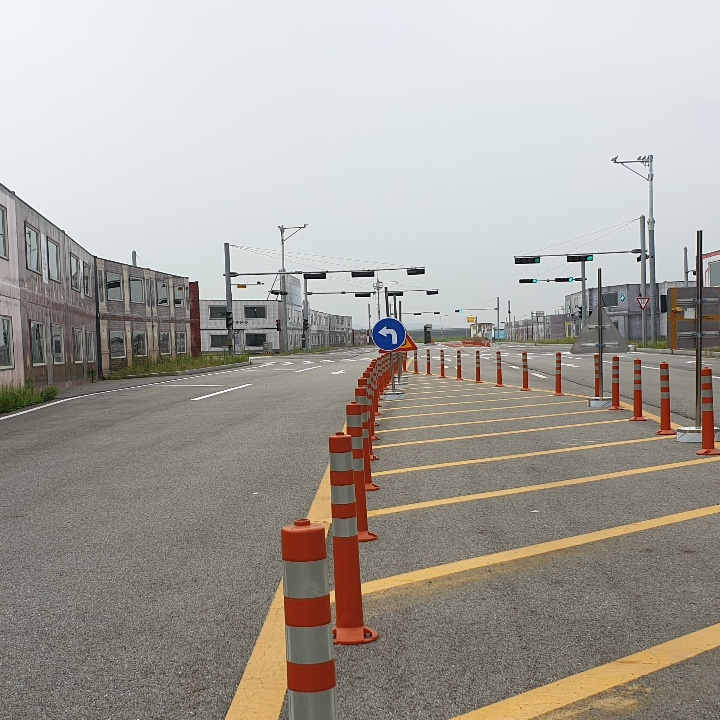left: (375, 320, 403, 350)
